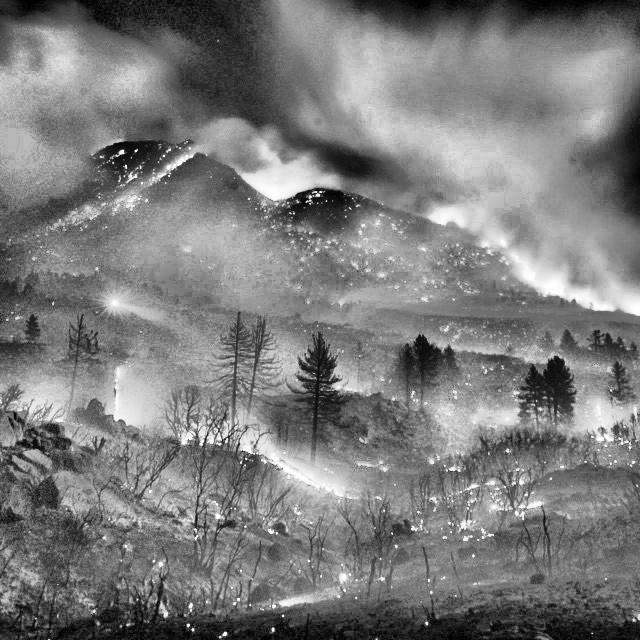fire: (116, 100, 626, 573)
